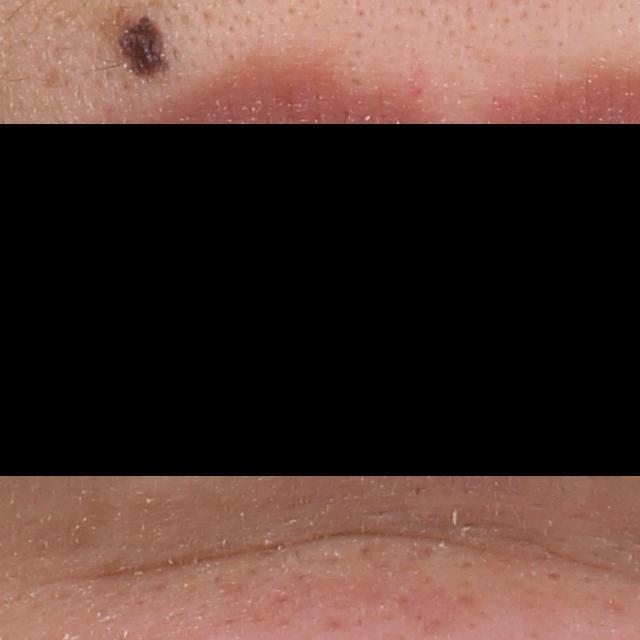nevus: (89, 4, 174, 84)
